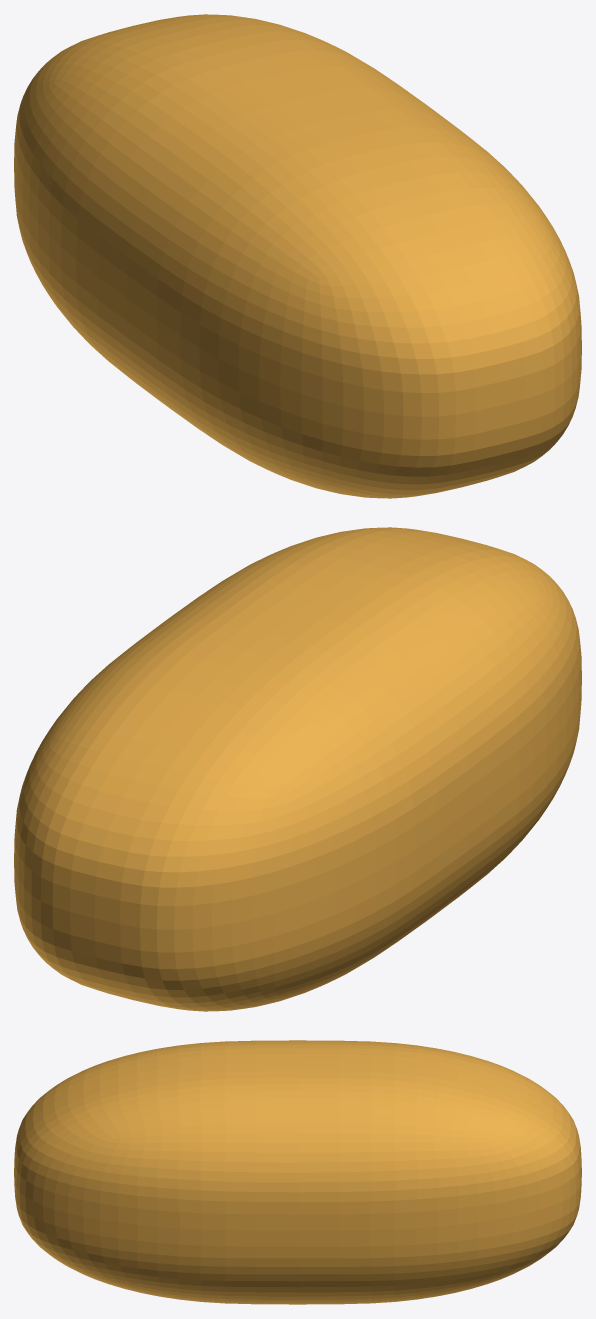
The model's file is Kartoffel.fbx.
3 views of the same model, one above another, from view 1: azimuth 30°, elevation 25°; view 2: azimuth 150°, elevation 25°; view 3: azimuth 270°, elevation 25° (orthographic). The views are drawn at different scales.
Parts seen in each view (by area): view 1: Cube; view 2: Cube; view 3: Cube.
Boxes of the visible parts, bbox=[...] form: Cube: bbox=[14, 14, 581, 498]; Cube: bbox=[14, 527, 581, 1011]; Cube: bbox=[14, 1040, 581, 1304].
Bounding box in the file's own units: 16.98 × 14.98 × 34.95.
